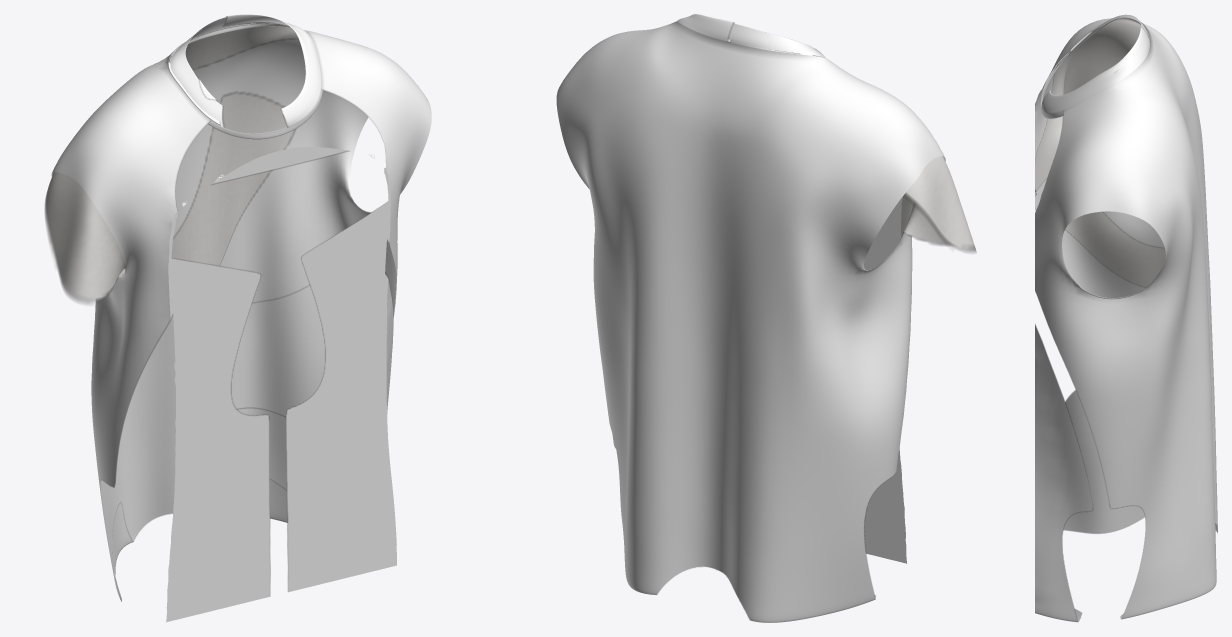
The model's file is shirt.glb.
3 views of the same model, side by side, from view 1: azimuth 30°, elevation 25°; view 2: azimuth 150°, elevation 25°; view 3: azimuth 270°, elevation 25° (orthographic). The views are drawn at different scales.
Visible parts, largest first — view 1: T-Shirt; view 2: T-Shirt; view 3: T-Shirt.
Boxes of the visible parts, x1,y1,x2,y2 form: T-Shirt: (44, 14, 431, 622); T-Shirt: (556, 14, 976, 622); T-Shirt: (1035, 14, 1217, 622).
Bounding box in the file's own units: 0.9123 × 1.06 × 0.3292.
Materials: 1 (1 with a texture image).
